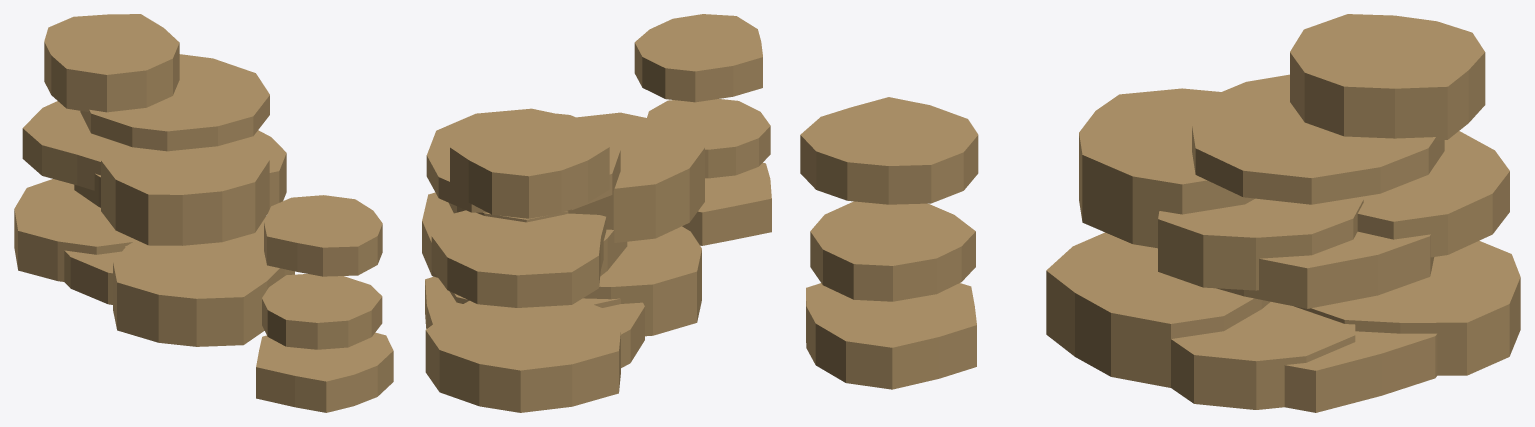
File: MesasW_Rock.fbx
3 renders of one model, left to right at view 1: azimuth 30°, elevation 25°; view 2: azimuth 150°, elevation 25°; view 3: azimuth 270°, elevation 25°, orthographic. The views are drawn at different scales.
Visible parts, largest first — view 1: MesaW0_0.001; view 2: MesaW0_0.001; view 3: MesaW0_0.001.
Part boxes in pixels (<box>): MesaW0_0.001: <box>14,14,393,412</box>; MesaW0_0.001: <box>422,14,771,412</box>; MesaW0_0.001: <box>800,14,1520,412</box>.
Bounding box in the file's own units: 7665 × 7176 × 16798.
